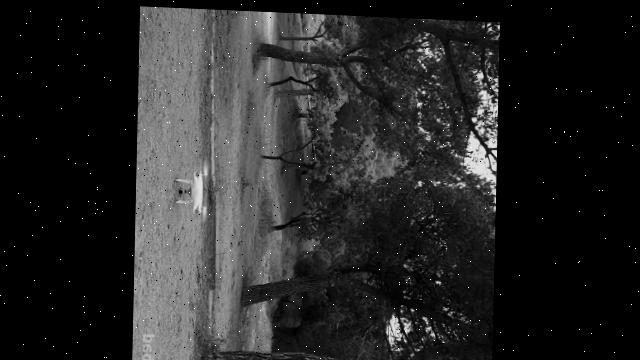drone: (174, 153, 212, 219)
